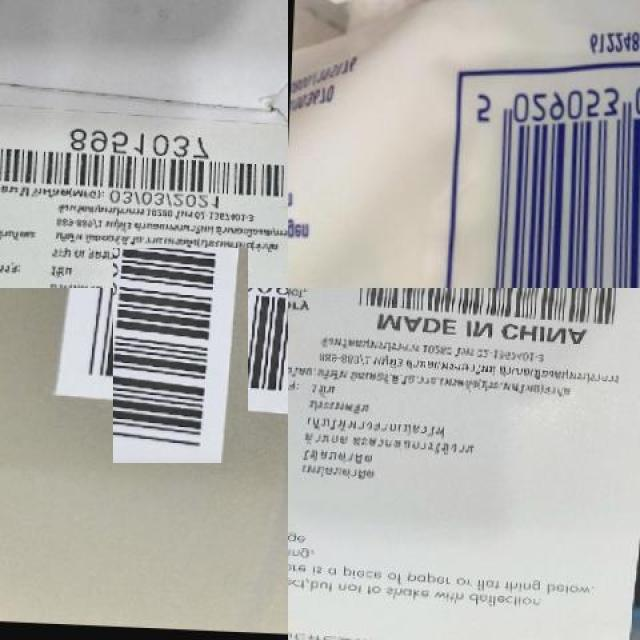Barcode: (448, 67, 640, 288), (92, 268, 268, 443), (0, 131, 288, 205), (343, 288, 637, 333)
